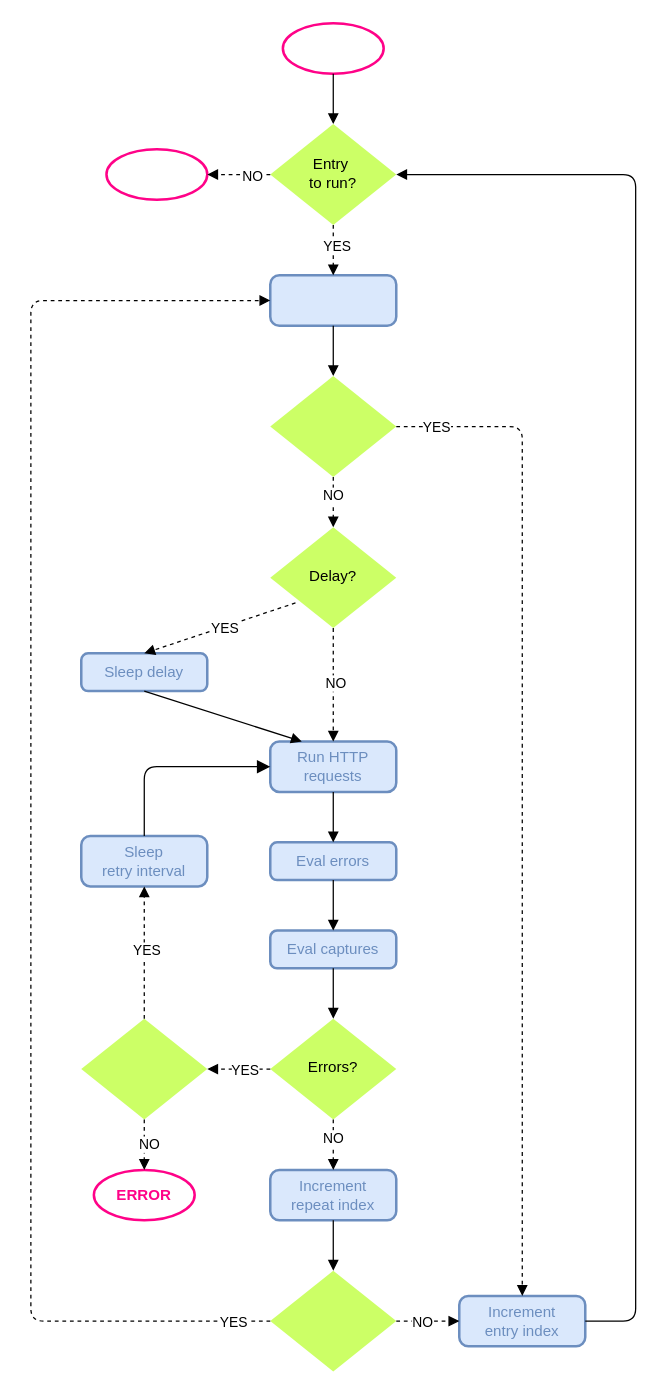
This 668x1392 diagram has some shape labels left out. The box of each missing label's shape, as (x1, y1, x2, y2) in pixels:
Eval entry options: (268, 273, 397, 326)
Repeat?: (270, 1270, 396, 1371)
Retry?: (81, 1018, 207, 1119)
Skip?: (270, 375, 396, 476)
START: (281, 21, 384, 74)
SUCCESS: (105, 147, 208, 200)
